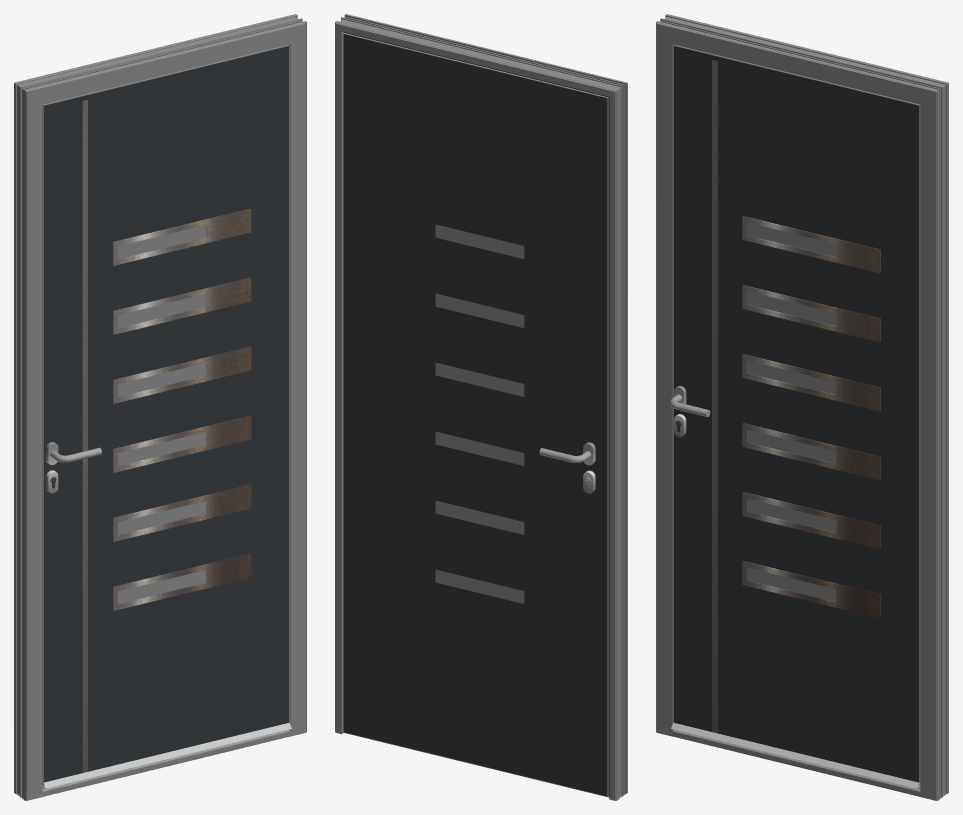
3 renders of one model, left to right at view 1: azimuth 30°, elevation 25°; view 2: azimuth 150°, elevation 25°; view 3: azimuth 330°, elevation 25°, orthographic.
Parts seen in each view (by area): view 1: bloco_9, aroFixo, alunox_7, Box001, aroMovel, rodapé, escovas, puxador001; view 2: bloco_9, aroFixo, Box002, aroMovel, puxador; view 3: bloco_9, aroFixo, alunox_7, Box001, aroMovel, rodapé, escovas, puxador001.
Boxes of the visible parts, bbox=[...] form: bloco_9: bbox=[44, 46, 288, 782]; aroFixo: bbox=[14, 14, 306, 800]; alunox_7: bbox=[82, 100, 251, 772]; Box001: bbox=[118, 224, 206, 603]; aroMovel: bbox=[42, 44, 289, 784]; rodapé: bbox=[42, 729, 290, 796]; escovas: bbox=[42, 722, 291, 788]; puxador001: bbox=[46, 442, 101, 493]; bloco_9: bbox=[343, 34, 607, 796]; aroFixo: bbox=[335, 14, 627, 800]; Box002: bbox=[435, 224, 524, 603]; aroMovel: bbox=[343, 32, 609, 796]; puxador: bbox=[539, 442, 595, 493]; bloco_9: bbox=[674, 46, 918, 782]; aroFixo: bbox=[656, 14, 948, 800]; alunox_7: bbox=[712, 60, 880, 733]; Box001: bbox=[747, 222, 836, 601]; aroMovel: bbox=[673, 44, 920, 784]; rodapé: bbox=[672, 729, 920, 796]; escovas: bbox=[671, 722, 920, 788]; puxador001: bbox=[669, 385, 710, 437].
Bounding box in the file's own units: 900 × 2165 × 209.
Materials: 10 (5 with a texture image).
